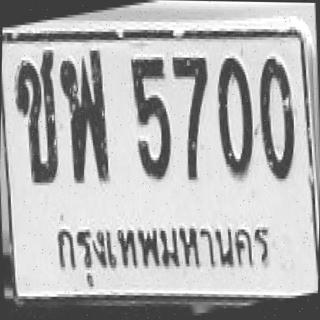A10: (12, 44, 61, 191)
A31: (55, 40, 120, 193)
P04: (44, 201, 285, 296)
